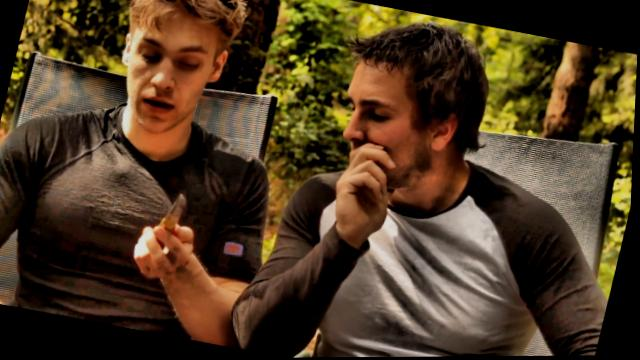knife: (127, 173, 210, 278)
